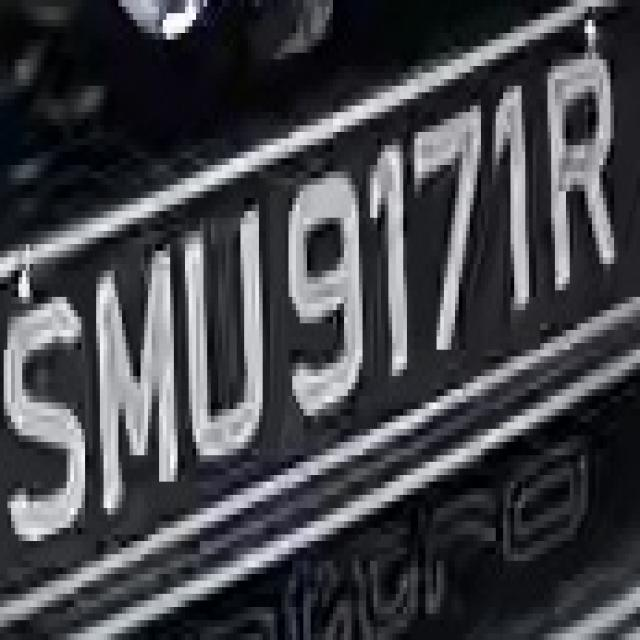1: (359, 132, 418, 402), (485, 79, 540, 323)
7: (399, 99, 488, 376)
9: (270, 158, 366, 436)
M: (85, 244, 178, 521)
R: (536, 53, 626, 297)
S: (15, 258, 89, 568)
U: (170, 211, 263, 475)
